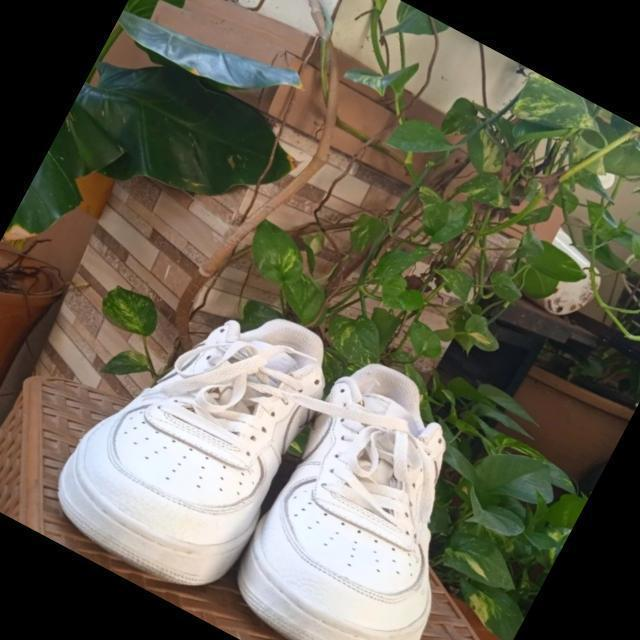nike fake air force: (29, 253, 353, 615), (212, 342, 532, 640)
